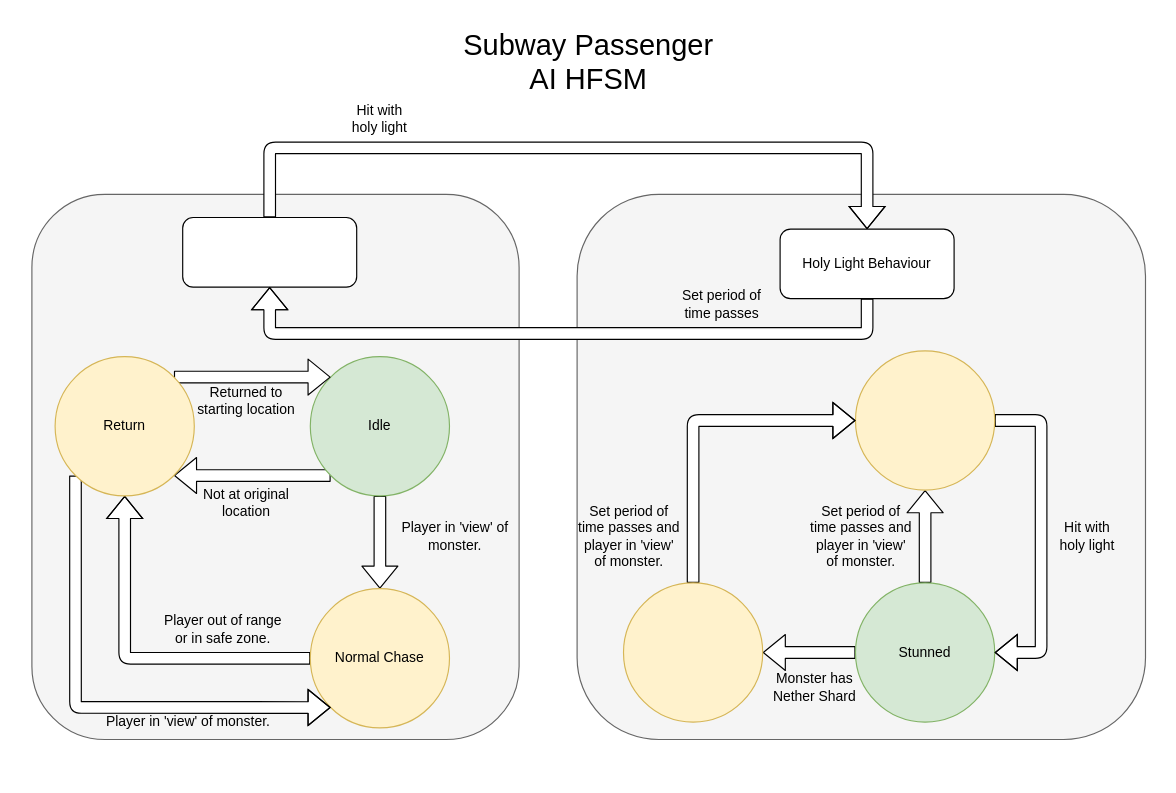
This 1176x793 diagram has some shape labels left out. The centre of each missing label's shape, as x and y in pixels:
"Base Behaviour" goes at (x=269, y=251).
"Drop Item" goes at (x=692, y=652).
"Staggered Chase" goes at (x=924, y=420).
